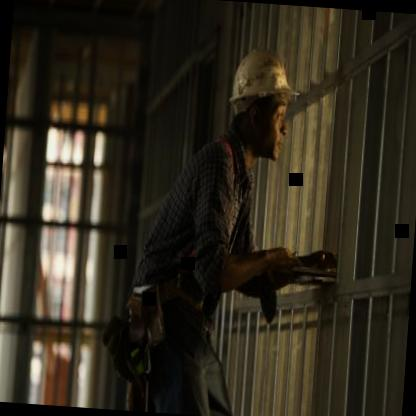helmet: (219, 34, 300, 164)
